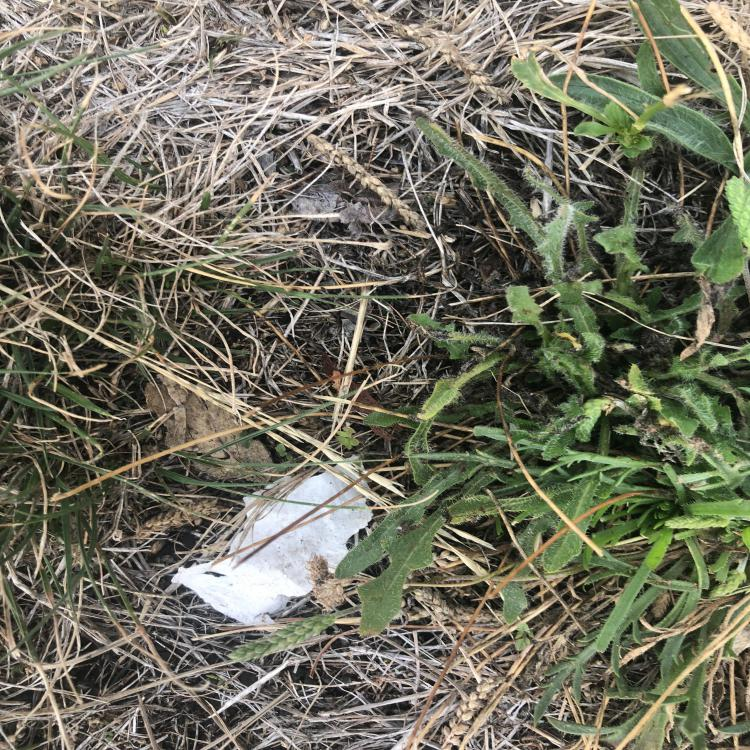Styrofoam piece: (171, 456, 373, 632)
